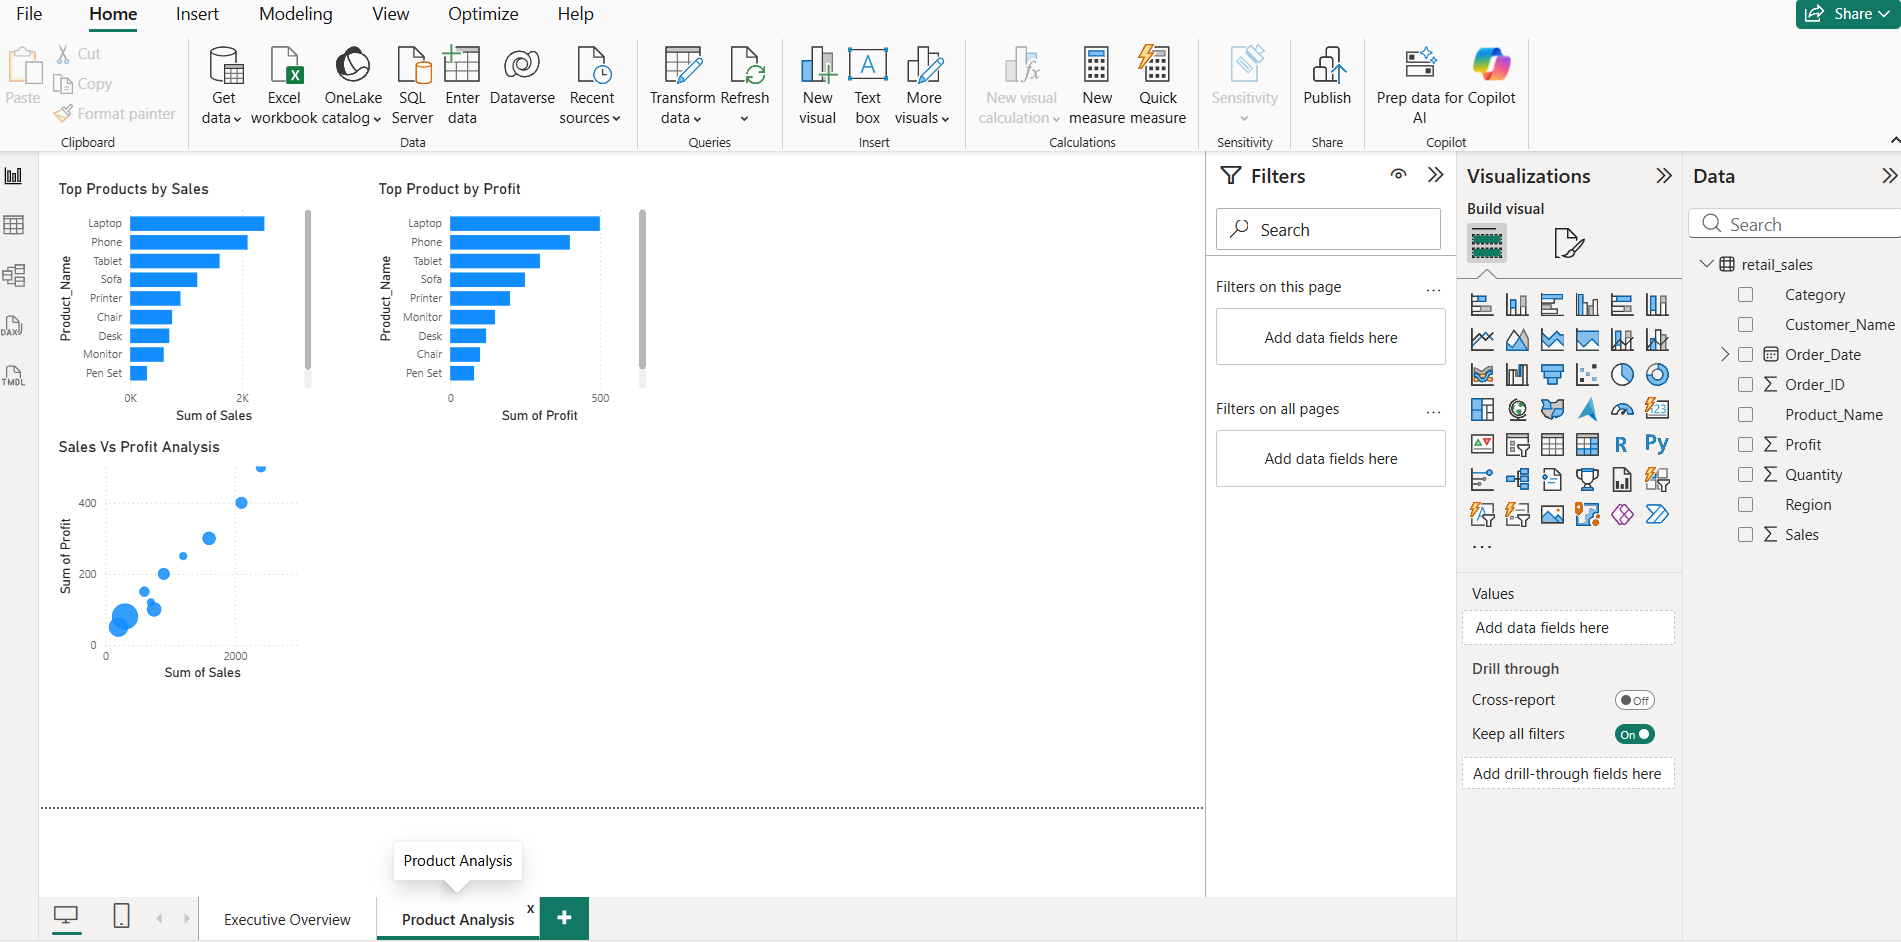

This screenshot's page, from the dashboard's own definition file:
{"tool":"powerbi","page":{"name":"Product Analysis","canvas":[1280,720],"ordinal":1},"visuals":[{"type":"clusteredBarChart","title":"Top Products by Sales","fields":{"Category":["retail_sales.Product_Name"],"Y":["Sum(retail_sales.Sales)"]},"box":[16,32,288,272],"z":0},{"type":"clusteredBarChart","title":"Top Product by Profit","fields":{"Category":["retail_sales.Product_Name"],"Y":["Sum(retail_sales.Profit)"]},"box":[368,32,304,272],"z":1},{"type":"scatterChart","title":"Sales Vs Profit Analysis","fields":{"X":["Sum(retail_sales.Sales)"],"Y":["Sum(retail_sales.Profit)"],"Category":["retail_sales.Product_Name"],"Size":["Sum(retail_sales.Quantity)"]},"box":[16,314,288,272],"z":2}]}

Visuals, with their boxes on the page's 1280x720 design canvas (x1, y1, x2, y2). These are canvas units, not pixel positions in the 1901x942 screenshot, which may show the page scaled, cropped or inside an application window:
"Top Products by Sales" clusteredBarChart: crop(16, 32, 304, 304)
"Top Product by Profit" clusteredBarChart: crop(368, 32, 672, 304)
"Sales Vs Profit Analysis" scatterChart: crop(16, 314, 304, 586)
